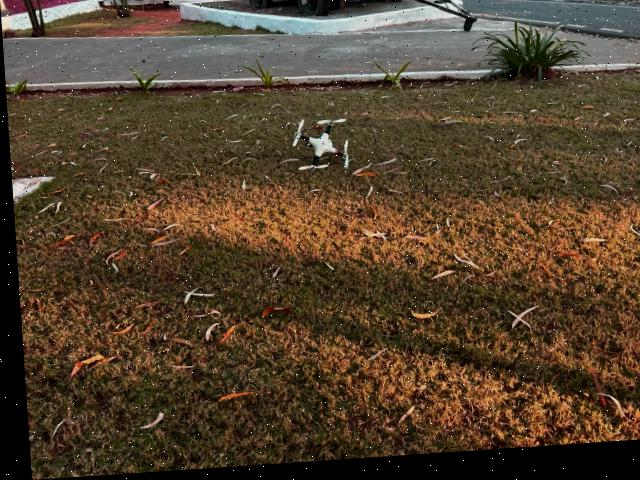drone: (273, 117, 379, 192)
